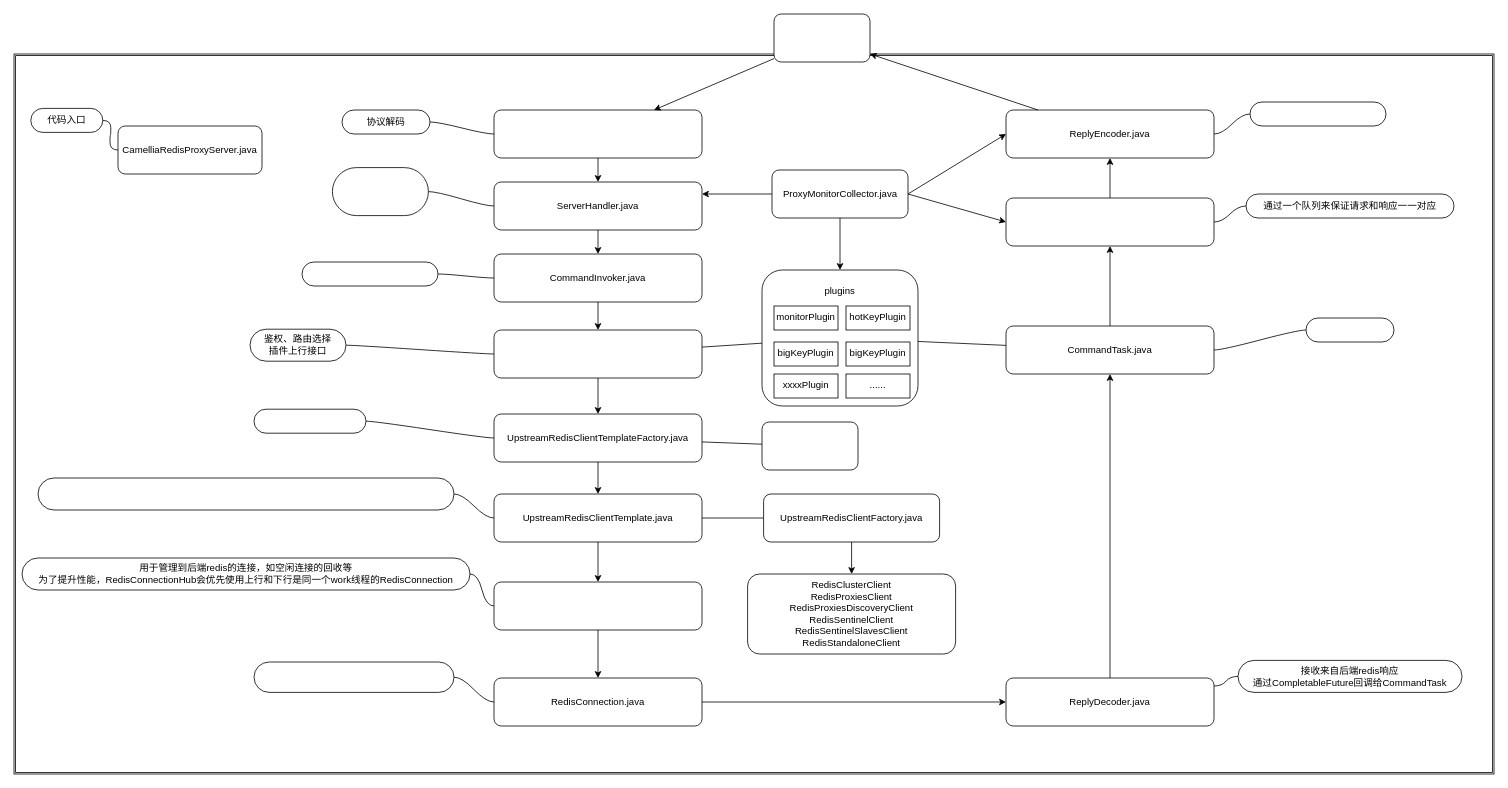
Some shapes in this 1508 by 788 pixel diagram are drawn without their labels. Here are the shapes that lost their labels. From the top down, the box of each, then its label:
(773, 13, 870, 62): 客户端
(493, 109, 702, 158): CommandDecoder.java
(1249, 101, 1386, 126): 将响应编码后回给客户端
(332, 167, 428, 216): 账号鉴权 请求监控 bid/bgroup解析
(1005, 197, 1214, 246): CommandTaskQueue.java
(301, 261, 438, 286): 各种配置、参数的初始化
(1305, 317, 1394, 342): 插件下行接口
(493, 329, 702, 378): CommandsRouter.java
(253, 408, 366, 433): 保持不同路由实例
(761, 421, 858, 470): remote local custom
(37, 477, 454, 510): 每个实例对应于一条路由 目前支持redis-standalone、redis-sentinel、redis-cluster等（以及各种读写、分片的组合）
(493, 581, 702, 630): RedisConnectionHub.java
(253, 661, 454, 692): 每个实例代表到后端的一个连接
